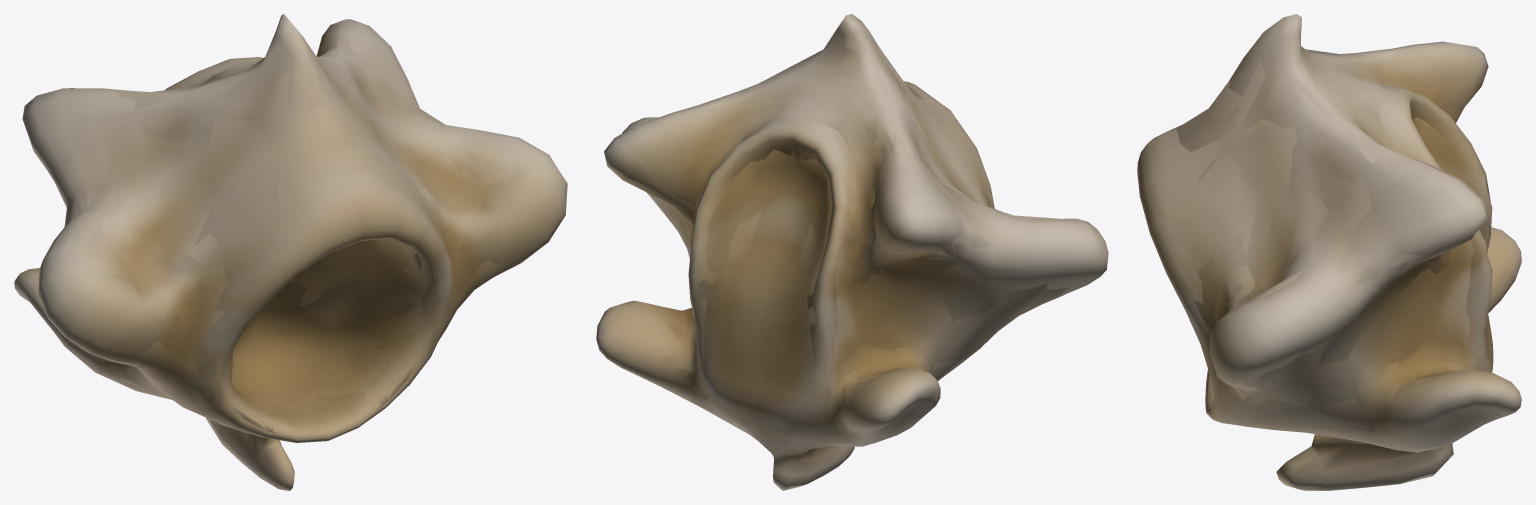
Rendered from vertebra cervicalis 1 atlas.fbx.
The picture shows the model from 3 angles, left to right: view 1: azimuth 30°, elevation 25°; view 2: azimuth 150°, elevation 25°; view 3: azimuth 270°, elevation 25°; orthographic projection. The views are drawn at different scales.
Parts seen in each view (by area): view 1: vertebra cervicalis 1 atlas, vertebra cervicalis 1 atlas low; view 2: vertebra cervicalis 1 atlas, vertebra cervicalis 1 atlas low; view 3: vertebra cervicalis 1 atlas, vertebra cervicalis 1 atlas low.
Boxes of the visible parts, x1,y1,x2,y2 form: vertebra cervicalis 1 atlas: [14, 14, 567, 490]; vertebra cervicalis 1 atlas low: [46, 35, 517, 449]; vertebra cervicalis 1 atlas: [596, 14, 1108, 490]; vertebra cervicalis 1 atlas low: [651, 37, 1068, 461]; vertebra cervicalis 1 atlas: [1137, 14, 1521, 490]; vertebra cervicalis 1 atlas low: [1176, 43, 1499, 462].
Size of the model in its own units: 4.68 by 4.13 by 3.02.
1 material, 1 textured.
